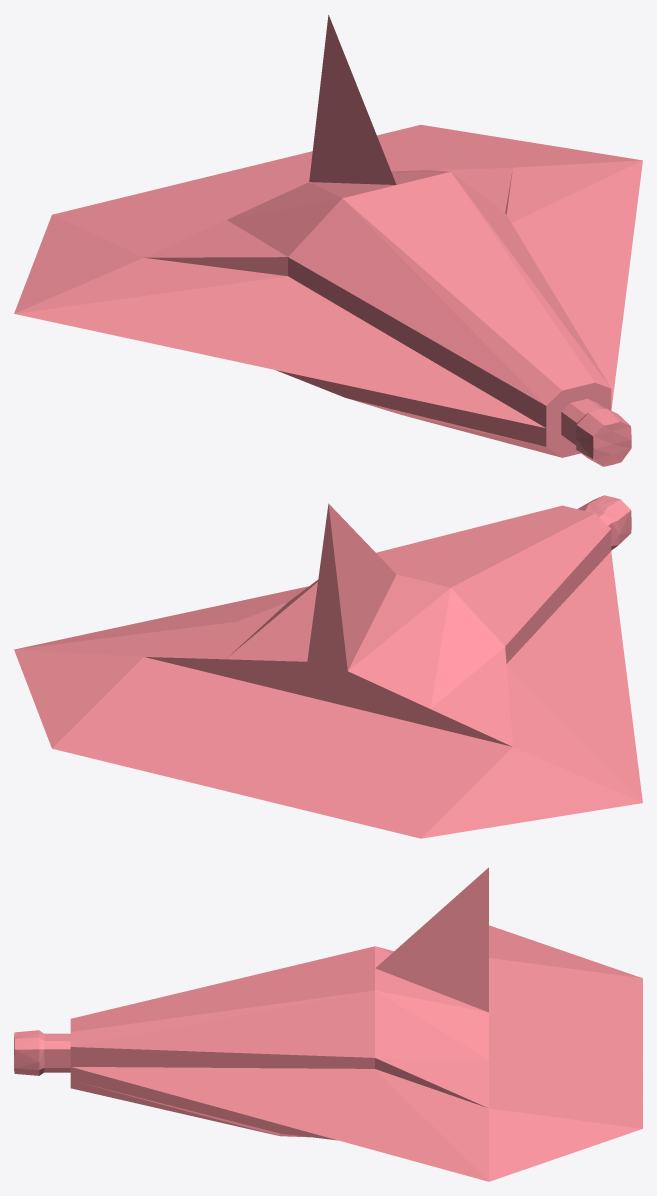
The model's file is enemy.obj.
3 views of the same model, one above another, from view 1: azimuth 30°, elevation 25°; view 2: azimuth 150°, elevation 25°; view 3: azimuth 270°, elevation 25° (orthographic). The views are drawn at different scales.
Visible parts, largest first — view 1: Cube; view 2: Cube; view 3: Cube.
Boxes of the visible parts, <box> form: Cube: <box>14,15,642,466</box>; Cube: <box>14,495,642,838</box>; Cube: <box>14,867,642,1181</box>.
Bounding box in the file's own units: 6.36 × 2.85 × 6.59.
